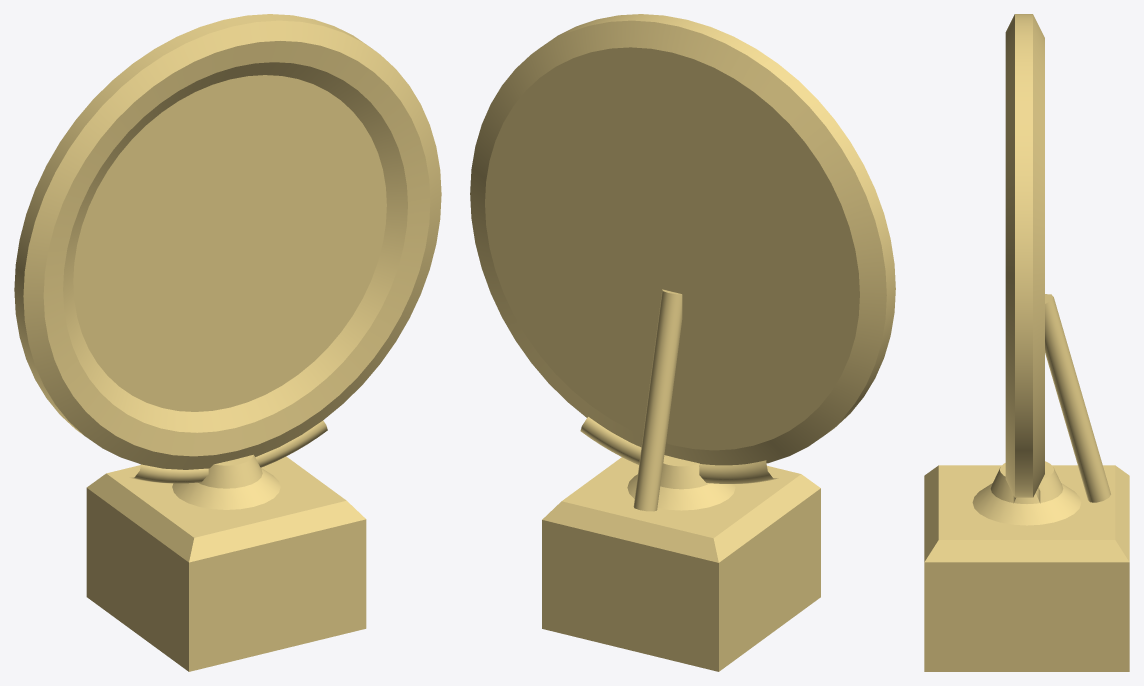
File: plate.glb
3 views of the same model, side by side, from view 1: azimuth 30°, elevation 25°; view 2: azimuth 150°, elevation 25°; view 3: azimuth 270°, elevation 25° (orthographic).
Visible parts, largest first — view 1: plate; view 2: plate; view 3: plate.
Part boxes in pixels (<box>): plate: <box>14,14,441,671</box>; plate: <box>470,14,895,671</box>; plate: <box>924,14,1129,671</box>.
Size of the model in its own units: 0.8 by 1.08 by 0.3394.
